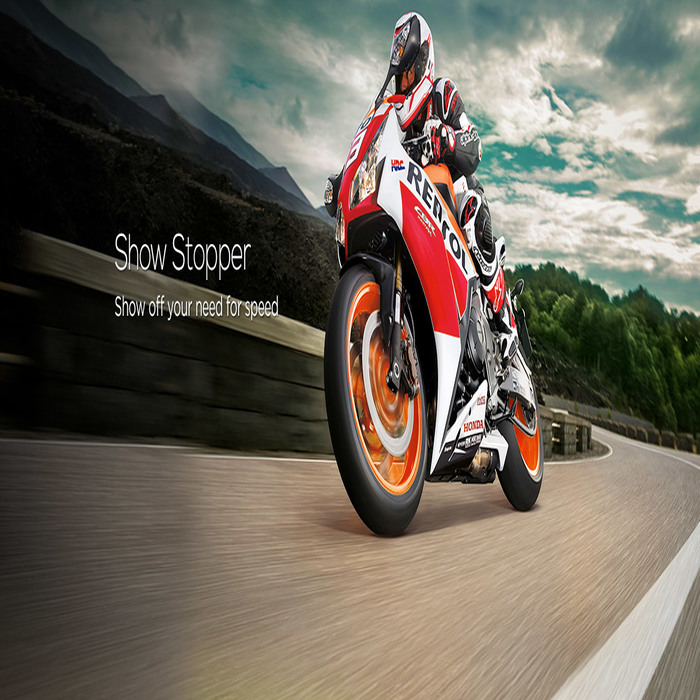h: (387, 5, 444, 130)
